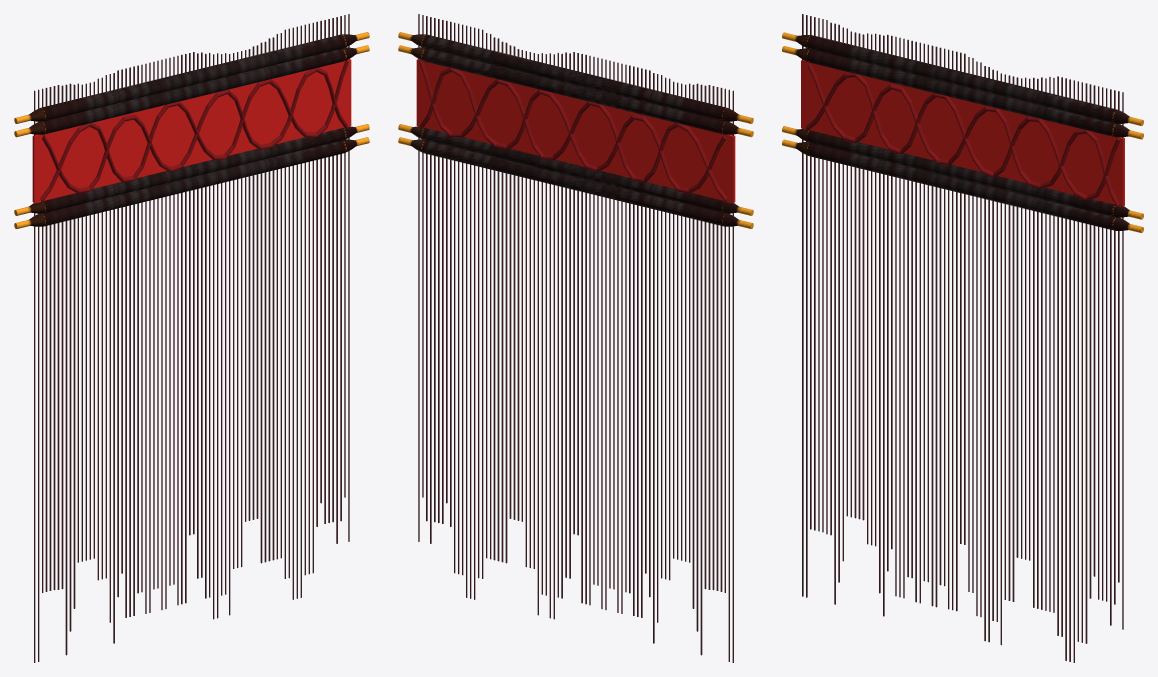
Rendered from temash.glb.
The picture shows the model from 3 angles, left to right: view 1: azimuth 30°, elevation 25°; view 2: azimuth 150°, elevation 25°; view 3: azimuth 330°, elevation 25°; orthographic projection.
Visible parts, largest first — view 1: peine, Cube, Cylinder, Cylinder.002, Cylinder.001, Cylinder.003, cuerda, cuerda.001; view 2: peine, Cube, Cylinder, Cylinder.002, Cylinder.001, Cylinder.003, cuerda, cuerda.001; view 3: peine, Cube, Cylinder, Cylinder.001, Cylinder.002, Cylinder.003, cuerda.001, cuerda.
Part boxes in pixels (box(x1,y1,x2,y2)): peine: box(34, 14, 349, 662); Cube: box(32, 59, 351, 203); Cylinder: box(14, 32, 369, 123); Cylinder.002: box(14, 137, 369, 228); Cylinder.001: box(14, 45, 369, 137); Cylinder.003: box(14, 124, 369, 215); cuerda: box(40, 60, 348, 202); cuerda.001: box(42, 67, 348, 193); peine: box(418, 14, 733, 662); Cube: box(416, 59, 735, 203); Cylinder: box(398, 32, 753, 123); Cylinder.002: box(398, 137, 753, 228); Cylinder.001: box(398, 45, 753, 137); Cylinder.003: box(398, 124, 753, 215); cuerda: box(419, 60, 727, 202); cuerda.001: box(419, 67, 725, 193); peine: box(802, 14, 1123, 662); Cube: box(801, 60, 1124, 206); Cylinder: box(782, 32, 1143, 125); Cylinder.001: box(782, 46, 1143, 139); Cylinder.002: box(782, 139, 1143, 233); Cylinder.003: box(782, 126, 1143, 219); cuerda.001: box(807, 63, 1119, 207); cuerda: box(805, 72, 1120, 200).
Bounding box in the file's own units: 1.29 × 2 × 0.0445.
4 materials, 1 textured.
